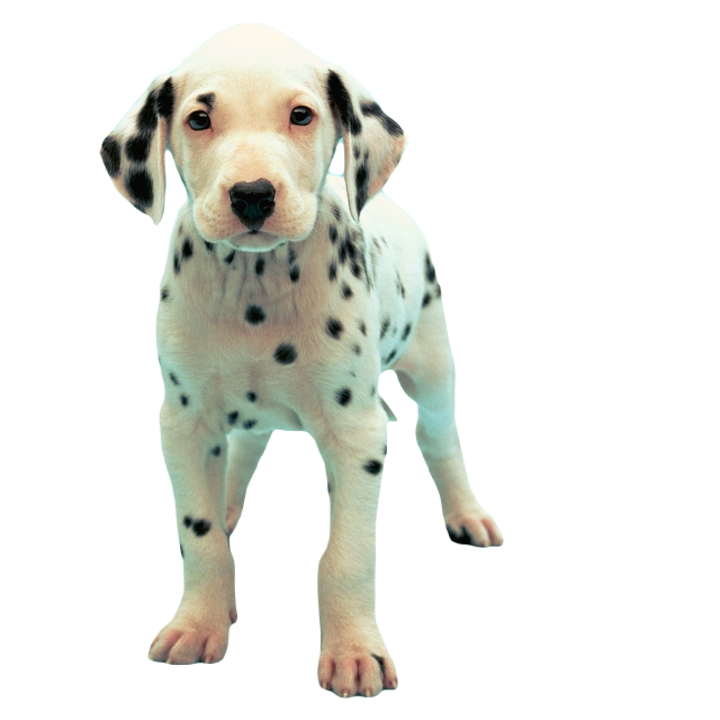Dog: (96, 22, 506, 692)
